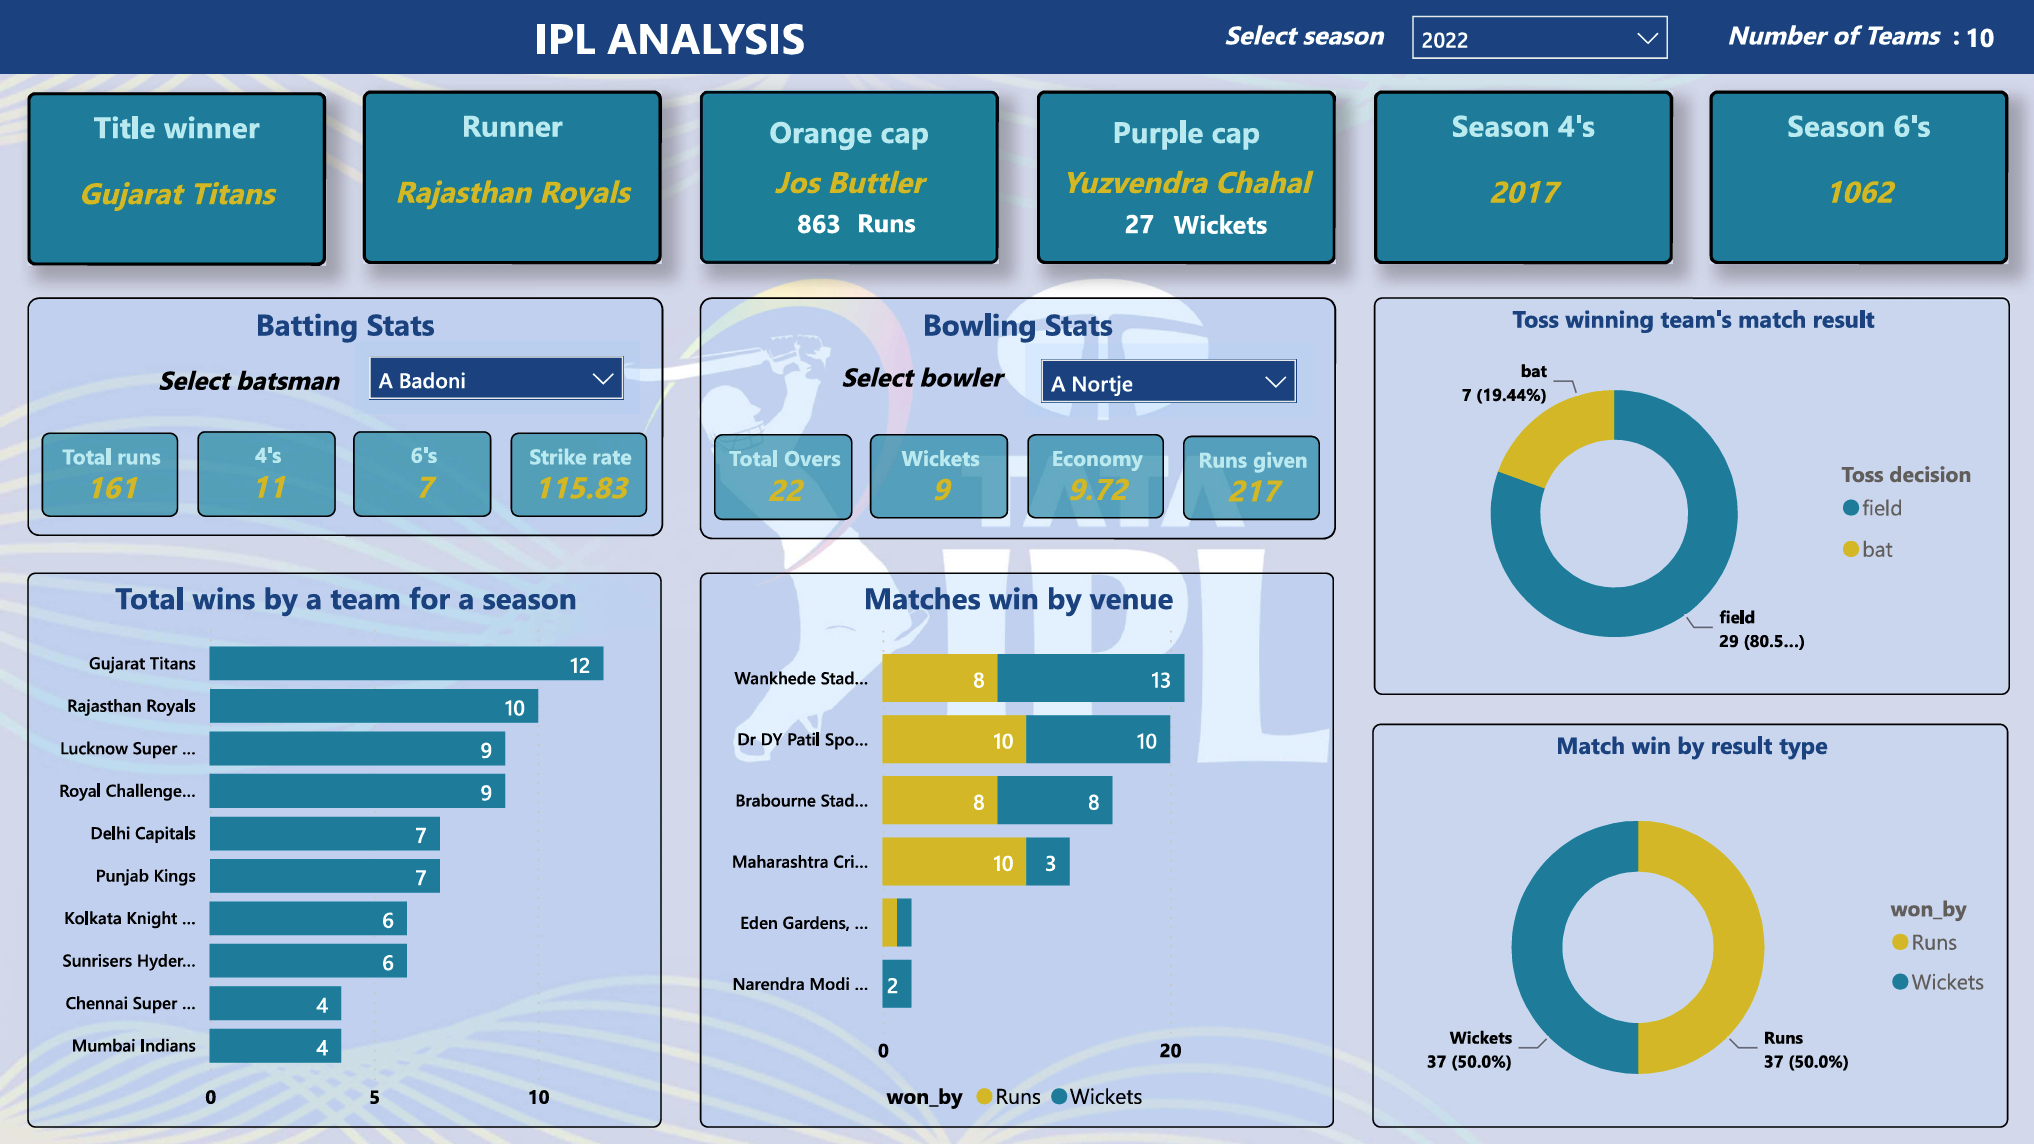

This screenshot's page, from the dashboard's own definition file:
{"tool":"powerbi","page":{"name":"IPL","canvas":[1280,720],"ordinal":0},"visuals":[{"type":"textbox","box":[656.9,0,622.9,45.8],"z":0},{"type":"shape","box":[16.7,57.5,188.3,108.9],"z":0,"group":"g3"},{"type":"shape","box":[228.2,57.5,188.3,108.9],"z":0,"group":"g2"},{"type":"shape","box":[440,57.5,188.3,108.9],"z":0,"group":"g4"},{"type":"shape","box":[651.7,57.5,188.3,108.9],"z":0,"group":"g1"},{"type":"shape","box":[863.5,57.5,188.3,108.9],"z":0,"group":"g5"},{"type":"shape","box":[1075.3,57.5,188.3,108.9],"z":0,"group":"g8"},{"type":"shape","box":[16.7,187.4,399.6,150.3],"z":0,"group":"g6"},{"type":"shape","box":[439.8,187.4,400.2,152.2],"z":0,"group":"g7"},{"type":"textbox","box":[0,0,656.9,45.8],"z":1000,"group":"g9"},{"type":"card","title":"Orange cap","fields":{"Values":["Min(ipl_ball_by_ball.batter)"]},"box":[440,65.3,188.3,77.2],"z":1000,"group":"g4"},{"type":"card","title":"Purple cap","fields":{"Values":["Min(ipl_ball_by_ball.bowler)"]},"box":[651.7,65.3,188.3,77.2],"z":1000,"group":"g1"},{"type":"card","title":"Title winner","fields":{"Values":["Min(ipl_match_results.winning_team)"]},"box":[16.7,66.9,188.3,99.4],"z":1000,"group":"g3"},{"type":"card","title":"Runner","fields":{"Values":["Min(ipl_match_results.Losing team)"]},"box":[228.2,66.9,188.3,99.4],"z":1000,"group":"g2"},{"type":"card","title":"Season 4''s","fields":{"Values":["Measure table.Fours"]},"box":[863.5,66.9,188.3,99.4],"z":1000,"group":"g5"},{"type":"card","title":"Season 6''s","fields":{"Values":["Measure table.sixes"]},"box":[1075.3,66.9,188.3,99.4],"z":1000,"group":"g8"},{"type":"card","title":"Total runs","fields":{"Values":["Measure table.Total runs"]},"box":[25.4,272.1,86.6,53.2],"z":1000,"group":"g6"},{"type":"card","title":"Total Overs","fields":{"Values":["Measure table.No. of overs"]},"box":[449.1,273.7,86.6,53.2],"z":1000,"group":"g7"},{"type":"slicer","fields":{"Values":["ipl_match_results.Year"]},"box":[878.4,0,180.6,45.8],"z":1500,"group":"g9"},{"type":"group","id":"g1","title":"purple cap","box":[651.7,57.5,188.3,108.9],"z":2000},{"type":"card","fields":{"Values":["Measure table.Total runs"]},"box":[485.6,125.3,58.9,35],"z":2000,"group":"g4"},{"type":"card","fields":{"Values":["Measure table.Total wickets"]},"box":[686.7,125.3,58.9,35],"z":2000,"group":"g1"},{"type":"slicer","fields":{"Values":["ipl_ball_by_ball.batter"]},"box":[221.4,214.3,180.6,45.8],"z":2000,"group":"g6"},{"type":"slicer","fields":{"Values":["ipl_ball_by_ball.bowler"]},"box":[644.5,216.2,180.6,45.8],"z":2000,"group":"g7"},{"type":"textbox","box":[533.9,124.7,59.4,35.6],"z":3000,"group":"g4"},{"type":"textbox","box":[732.8,125.3,82.2,35.6],"z":3000,"group":"g1"},{"type":"card","title":"4''s","fields":{"Values":["Measure table.Fours"]},"box":[123.7,271.7,86.6,53.2],"z":3000,"group":"g6"},{"type":"card","title":"Wickets","fields":{"Values":["Measure table.Total wickets"]},"box":[547.2,273.6,86.6,53.2],"z":3000,"group":"g7"},{"type":"group","id":"g2","title":"runner","box":[228.2,57.5,188.3,108.9],"z":4000},{"type":"card","title":"6''s","fields":{"Values":["Measure table.sixes"]},"box":[222.1,271.7,86.6,53.2],"z":4000,"group":"g6"},{"type":"card","title":"Economy","fields":{"Values":["Measure table.Economy"]},"box":[645.4,273.6,86.6,53.2],"z":4000,"group":"g7"},{"type":"textbox","box":[765.2,6.2,129.3,33.4],"z":5000,"group":"g9"},{"type":"card","title":"Strike rate","fields":{"Values":["Measure table.strike rate"]},"box":[320.4,272.1,86.6,53.2],"z":5000,"group":"g6"},{"type":"card","title":"Runs given","fields":{"Values":["Measure table.Total runs(bowler)"]},"box":[743.5,274,86.6,53.2],"z":5000,"group":"g7"},{"type":"group","id":"g3","title":"winner","box":[16.7,57.5,188,108.9],"z":6000},{"type":"textbox","box":[524,221.1,119.4,36.9],"z":6000,"group":"g7"},{"type":"textbox","box":[31.5,223,186.2,37.1],"z":6000,"group":"g6"},{"type":"group","id":"g4","title":"orange cap","box":[440,57.5,188.3,108.9],"z":7000},{"type":"group","id":"g5","title":"fours","box":[863.5,57.5,188.3,108.9],"z":8000},{"type":"clusteredBarChart","title":"Total wins by a team for a season","fields":{"Category":["ipl_match_results.winning_team"],"Y":["CountNonNull(ipl_match_results.winning_team)"]},"box":[16.7,360,399.6,348.9],"z":9000},{"type":"donutChart","title":"Toss winning team''s match result","fields":{"Y":["Measure table.match result by toss winner"],"Category":["ipl_match_results.toss_decision"]},"box":[863.5,187.4,400.2,249.9],"z":10000},{"type":"group","id":"g6","title":"batting stats","box":[16.7,187.4,399.6,150.3],"z":11000},{"type":"group","id":"g7","title":"bowling stats","box":[439.8,187.4,400.2,152.2],"z":12000},{"type":"group","id":"g8","title":"sixes","box":[1075.3,57.5,188.3,108.9],"z":13000},{"type":"barChart","title":"Matches win by venue","fields":{"Category":["ipl_match_results.venue"],"Series":["ipl_match_results.won_by"],"Y":["CountNonNull(ipl_match_results.winning_team)"]},"box":[439.8,360,399.6,348.9],"z":14000},{"type":"donutChart","title":"Match win by result type","fields":{"Category":["ipl_match_results.won_by"],"Y":["CountNonNull(ipl_match_results.won_by)"]},"box":[862.9,454.6,400.2,254.2],"z":15000},{"type":"card","fields":{"Values":["Measure table.Total teams"]},"box":[1225.4,0,39.6,45.8],"z":16000,"group":"g9"},{"type":"textbox","box":[1081.2,6.2,168.2,33.4],"z":17000,"group":"g9"},{"type":"group","id":"g9","title":"title ","box":[0,0,1264.9,45.8],"z":17001}]}

Visuals, with their boxes in screenshot pixels (x1, y1, x2, y2), scaled from the page's 1280x720 canvas onto the 2034x1144 screenshot:
textbox: 1044,0,2033,73
shape: 27,91,326,264
shape: 363,91,662,264
shape: 699,91,998,264
shape: 1036,91,1335,264
shape: 1372,91,1671,264
shape: 1709,91,2008,264
shape: 27,298,662,537
shape: 699,298,1335,540
textbox: 0,0,1044,73
"Orange cap" card: 699,104,998,226
"Purple cap" card: 1036,104,1335,226
"Title winner" card: 27,106,326,264
"Runner" card: 363,106,662,264
"Season 4''s" card: 1372,106,1671,264
"Season 6''s" card: 1709,106,2008,264
"Total runs" card: 40,432,178,517
"Total Overs" card: 714,435,851,519
slicer - ipl_match_results.Year: 1396,0,1683,73
"purple cap" group: 1036,91,1335,264
card - Measure table.Total runs: 772,199,865,255
card - Measure table.Total wickets: 1091,199,1185,255
slicer - ipl_ball_by_ball.batter: 352,340,639,413
slicer - ipl_ball_by_ball.bowler: 1024,344,1311,416
textbox: 848,198,943,255
textbox: 1164,199,1295,256
"4''s" card: 197,432,334,516
"Wickets" card: 870,435,1007,519
"runner" group: 363,91,662,264
"6''s" card: 353,432,491,516
"Economy" card: 1026,435,1163,519
textbox: 1216,10,1421,63
"Strike rate" card: 509,432,647,517
"Runs given" card: 1181,435,1319,520
"winner" group: 27,91,325,264
textbox: 833,351,1022,410
textbox: 50,354,346,413
"orange cap" group: 699,91,998,264
"fours" group: 1372,91,1671,264
"Total wins by a team for a season" clusteredBarChart: 27,572,662,1126
"Toss winning team''s match result" donutChart: 1372,298,2008,695
"batting stats" group: 27,298,662,537
"bowling stats" group: 699,298,1335,540
"sixes" group: 1709,91,2008,264
"Matches win by venue" barChart: 699,572,1334,1126
"Match win by result type" donutChart: 1371,722,2007,1126
card - Measure table.Total teams: 1947,0,2010,73
textbox: 1718,10,1985,63
"title " group: 0,0,2010,73
